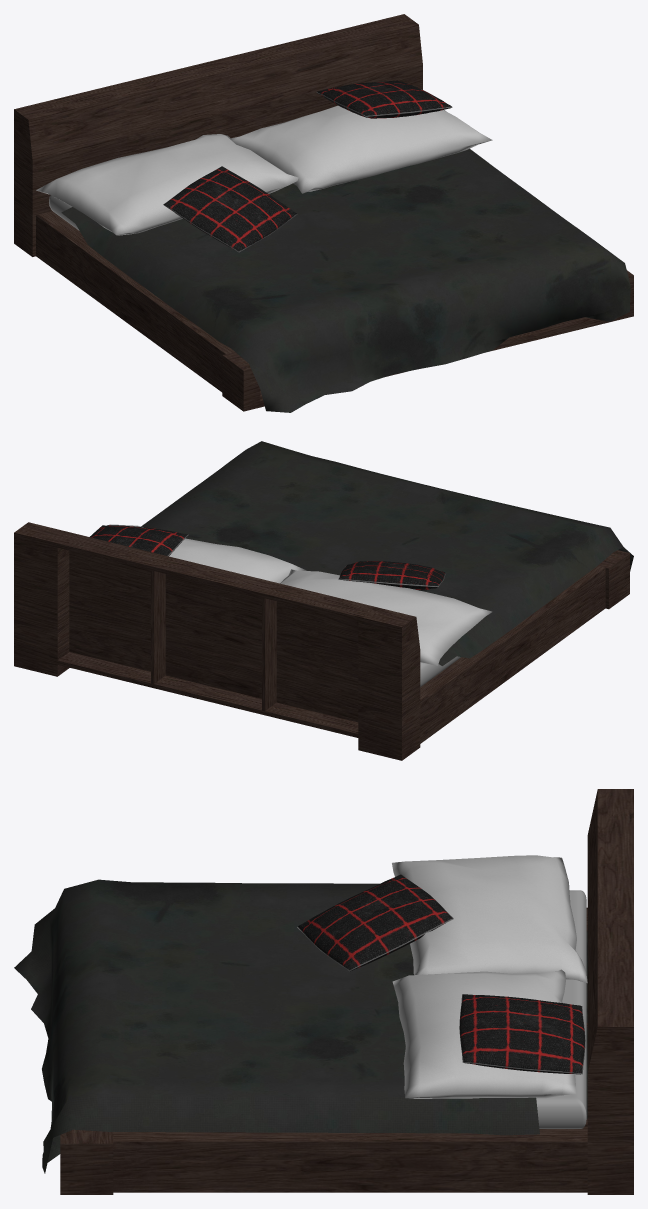
The model's file is bed-charcoal.glb.
The picture shows the model from 3 angles, top to bottom: view 1: azimuth 30°, elevation 25°; view 2: azimuth 150°, elevation 25°; view 3: azimuth 270°, elevation 25°; orthographic projection. The views are drawn at different scales.
Visible parts, largest first — view 1: Bed, Pillow_2.001, Pillow_2, Plane.001, Plane.000; view 2: Bed, Pillow_2, Pillow_2.001, Plane.001, Plane.000; view 3: Bed, Pillow_2, Pillow_2.001, Plane.000, Plane.001.
Boxes of the visible parts, x1,y1,x2,y2 form: Bed: (14,14,633,412); Pillow_2.001: (230,89,492,193); Pillow_2: (36,134,298,235); Plane.001: (163,166,297,252); Plane.000: (316,80,452,118); Bed: (14,441,633,760); Pillow_2: (280,569,492,665); Pillow_2.001: (108,524,306,583); Plane.001: (338,561,446,590); Plane.000: (90,525,188,556); Bed: (14,789,633,1194); Pillow_2: (392,855,587,983); Pillow_2.001: (392,969,576,1098); Plane.000: (459,994,585,1074); Plane.001: (297,874,453,971).
Size of the model in its own units: 2.23 by 0.72 by 2.41.
5 materials, 4 textured.
